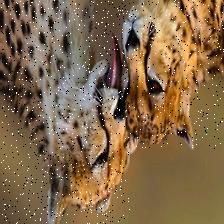Cheetha: (0, 0, 129, 224), (115, 0, 224, 149)
